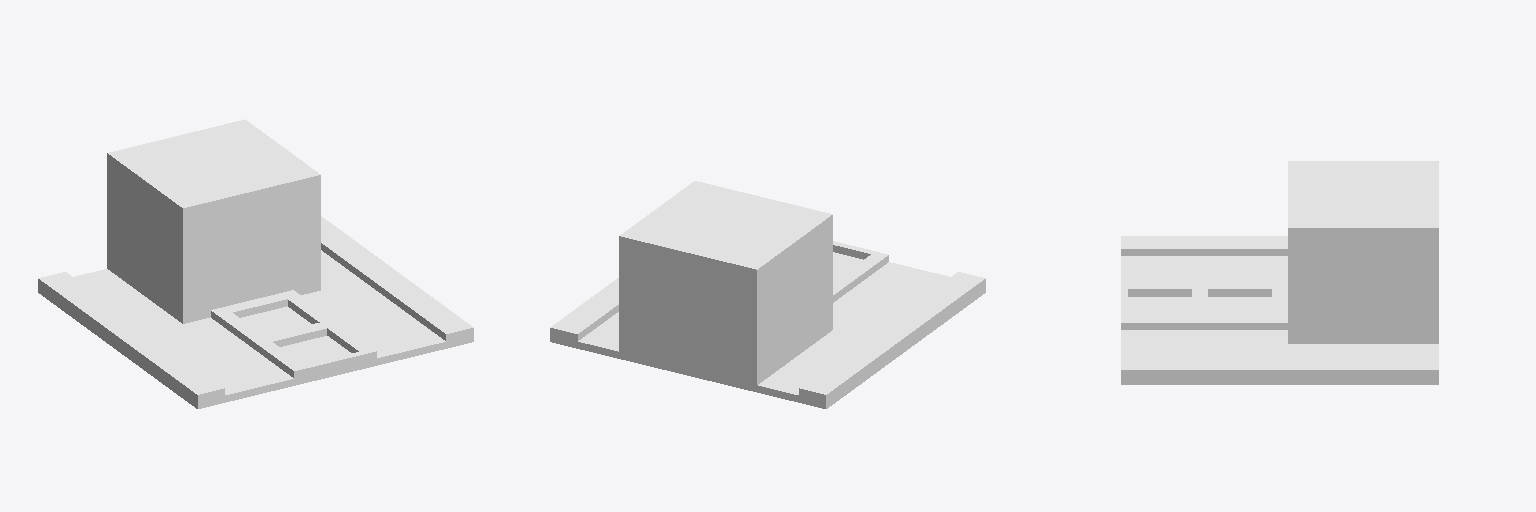
Rendered from Asset-31.obj.
3 views of the same model, side by side, from view 1: azimuth 30°, elevation 25°; view 2: azimuth 150°, elevation 25°; view 3: azimuth 270°, elevation 25° (orthographic).
Parts seen in each view (by area): view 1: Asset-31; view 2: Asset-31; view 3: Asset-31.
Part boxes in pixels (left/top/right/bottom): Asset-31: left=38, top=119, right=473, bottom=408; Asset-31: left=550, top=181, right=985, bottom=408; Asset-31: left=1121, top=161, right=1438, bottom=384.
Size of the model in its own units: 40 by 17 by 40.